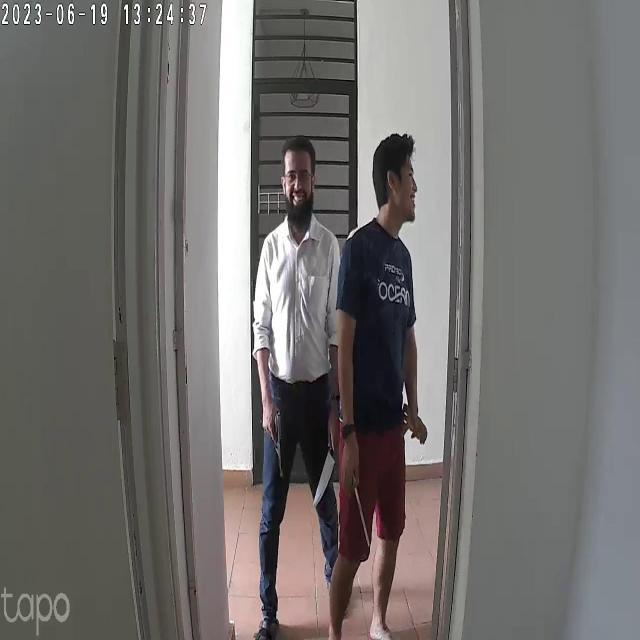Gun: (260, 403, 298, 478)
Knife: (312, 442, 343, 510)
